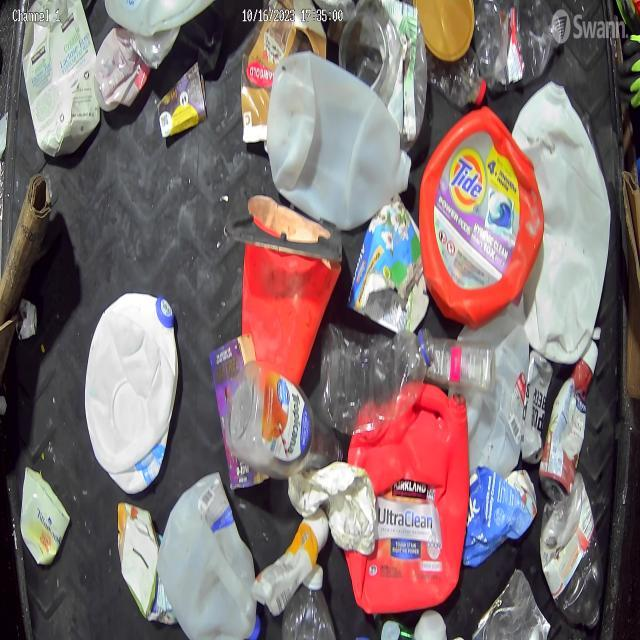milk_jug: (513, 78, 611, 364), (274, 54, 408, 226), (153, 473, 264, 640), (85, 292, 176, 488), (430, 331, 500, 393)
non_white_jug: (342, 388, 464, 609), (424, 110, 536, 316)
plastic_bottle: (323, 318, 433, 422)
